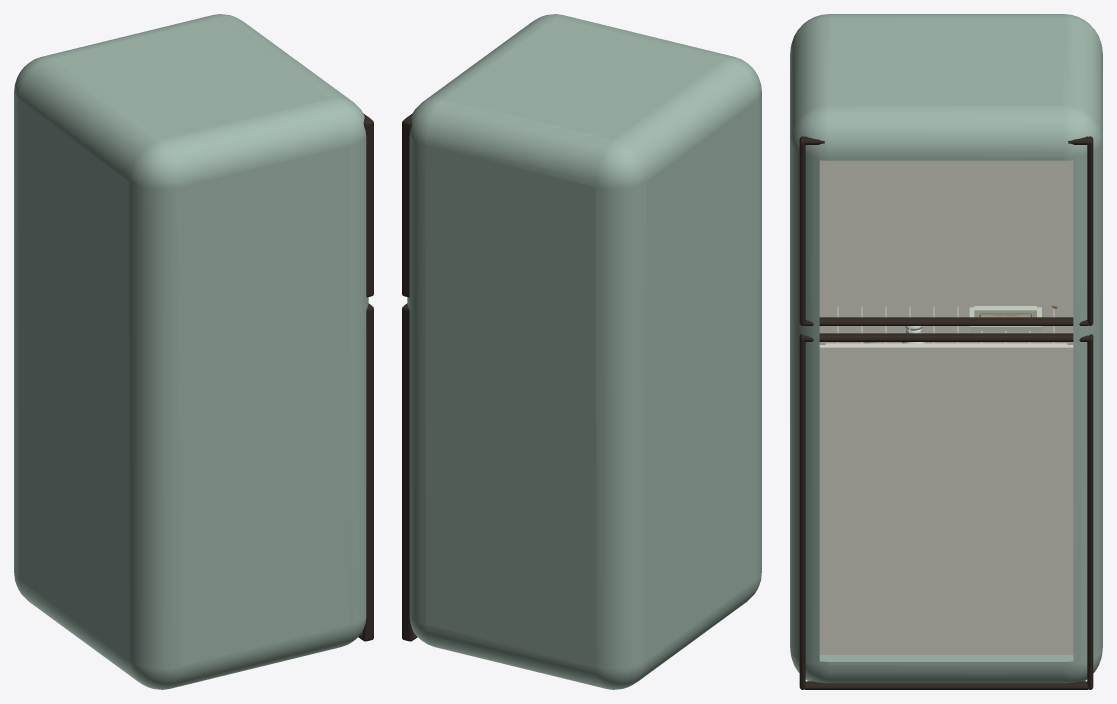
File: interactive-fridge.glb
3 renders of one model, left to right at view 1: azimuth 30°, elevation 25°; view 2: azimuth 150°, elevation 25°; view 3: azimuth 270°, elevation 25°, orthographic. The views are drawn at different scales.
Parts seen in each view (by area): view 1: Rounded seafoam refrigerator, Fridge compression gasket.001, Fridge compression gasket; view 2: Rounded seafoam refrigerator, Fridge compression gasket.001, Fridge compression gasket; view 3: Fridge moulded ivory door interior, Rounded seafoam refrigerator, Fridge moulded ivory door interior.001, Fridge compression gasket.001, Fridge compression gasket, Fridge continuous ivory interior liner, Fridge covered butter dish lid, Fridge covered butter dish tray.
Part boxes in pixels (x1=…): Rounded seafoam refrigerator: x1=14, y1=14, x2=368, y2=689; Fridge compression gasket.001: x1=358, y1=303, x2=373, y2=641; Fridge compression gasket: x1=363, y1=113, x2=373, y2=297; Rounded seafoam refrigerator: x1=407, y1=14, x2=761, y2=689; Fridge compression gasket.001: x1=402, y1=303, x2=417, y2=641; Fridge compression gasket: x1=402, y1=113, x2=412, y2=297; Fridge moulded ivory door interior: x1=819, y1=343, x2=1073, y2=654; Rounded seafoam refrigerator: x1=790, y1=14, x2=1102, y2=683; Fridge moulded ivory door interior.001: x1=819, y1=160, x2=1073, y2=305; Fridge compression gasket.001: x1=799, y1=333, x2=1093, y2=689; Fridge compression gasket: x1=799, y1=136, x2=1093, y2=325; Fridge continuous ivory interior liner: x1=819, y1=306, x2=1073, y2=344; Fridge covered butter dish lid: x1=974, y1=306, x2=1036, y2=317; Fridge covered butter dish tray: x1=969, y1=307, x2=1041, y2=330.
Bounding box in the file's own units: 0.87 × 1.94 × 0.95.
13 materials, 1 textured.
